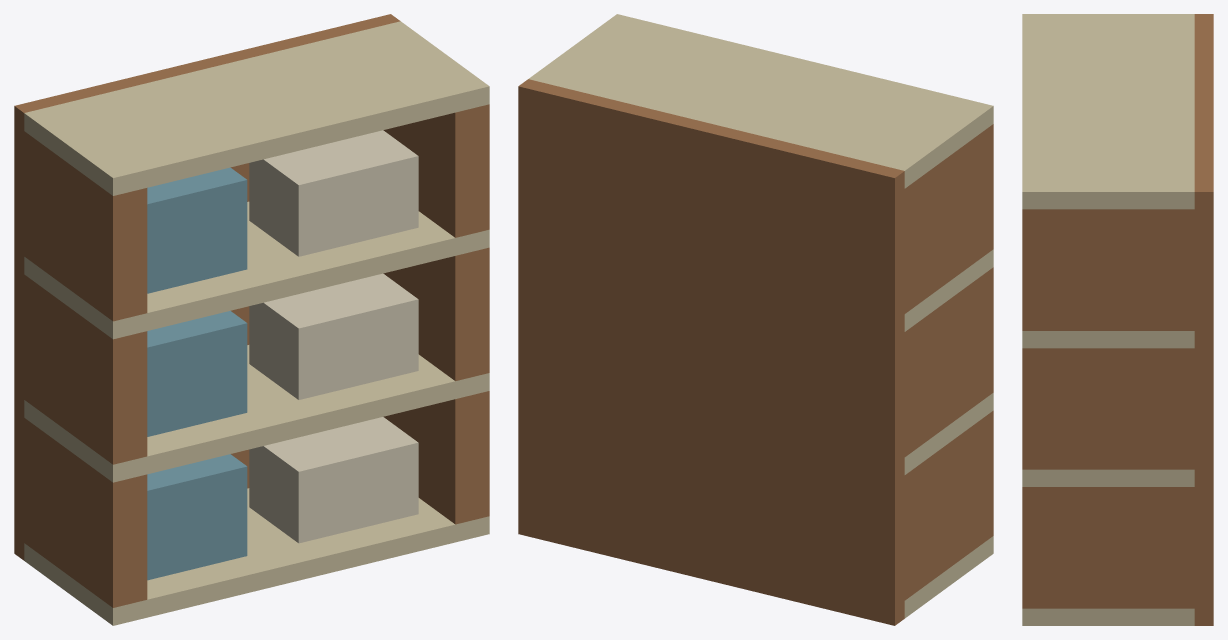
File: travel-19.glb
3 renders of one model, left to right at view 1: azimuth 30°, elevation 25°; view 2: azimuth 150°, elevation 25°; view 3: azimuth 270°, elevation 25°, orthographic. The views are drawn at different scales.
Visible parts, largest first — view 1: Souvenir shelf; view 2: Souvenir shelf; view 3: Souvenir shelf.
Boxes of the visible parts, x1,y1,x2,y2 form: Souvenir shelf: (14,14,489,625); Souvenir shelf: (518,14,993,625); Souvenir shelf: (1022,14,1213,625).
Bounding box in the file's own units: 1.76 × 2 × 0.8.
